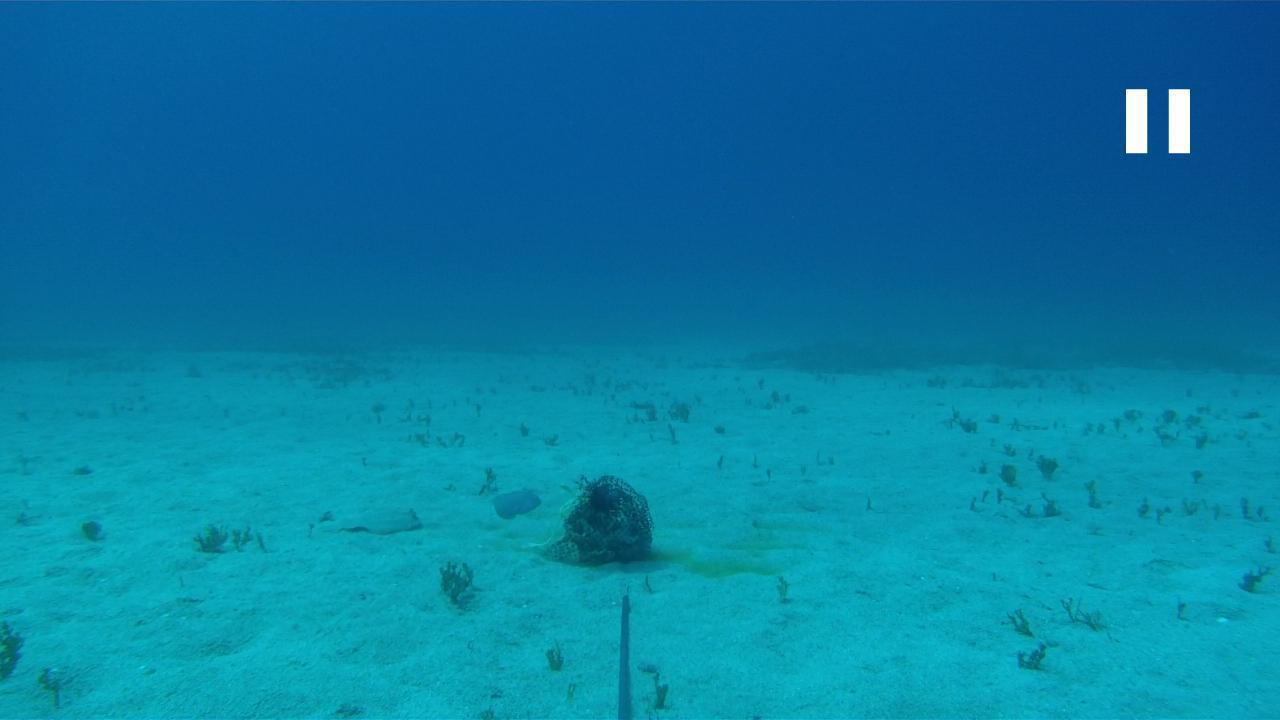bothus: (315, 503, 428, 534)
